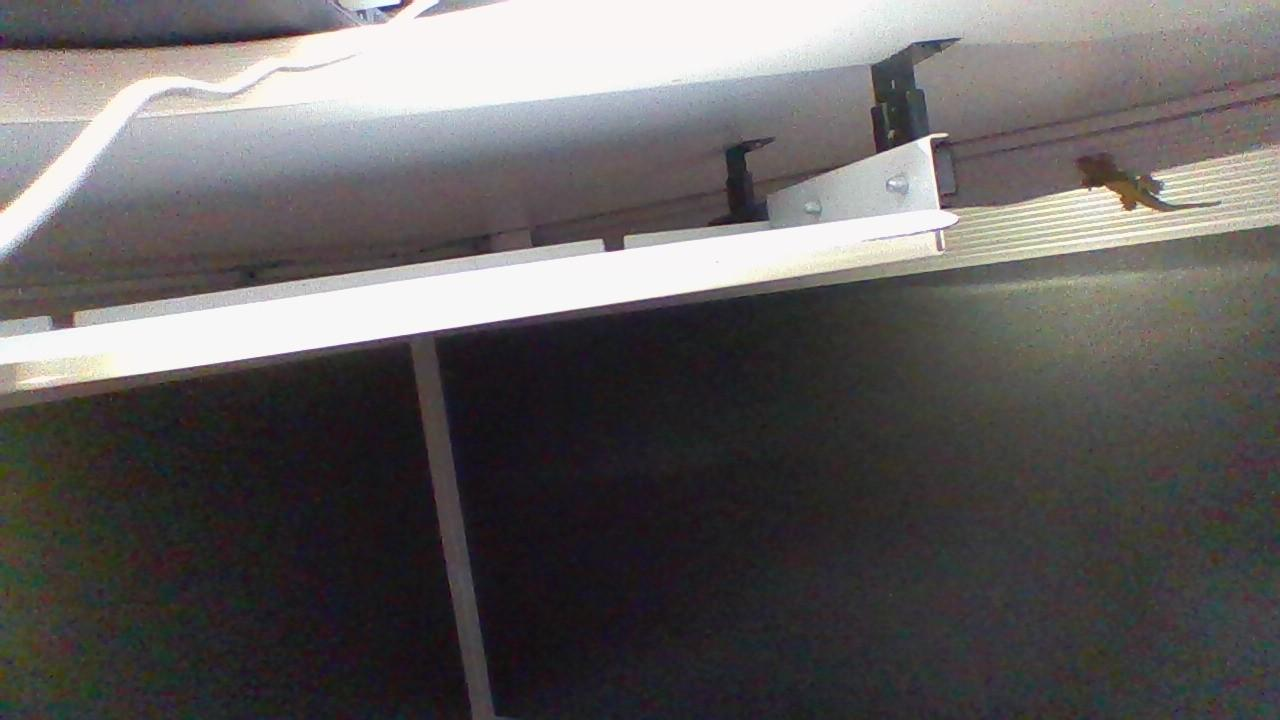lizard: (1070, 143, 1217, 214)
